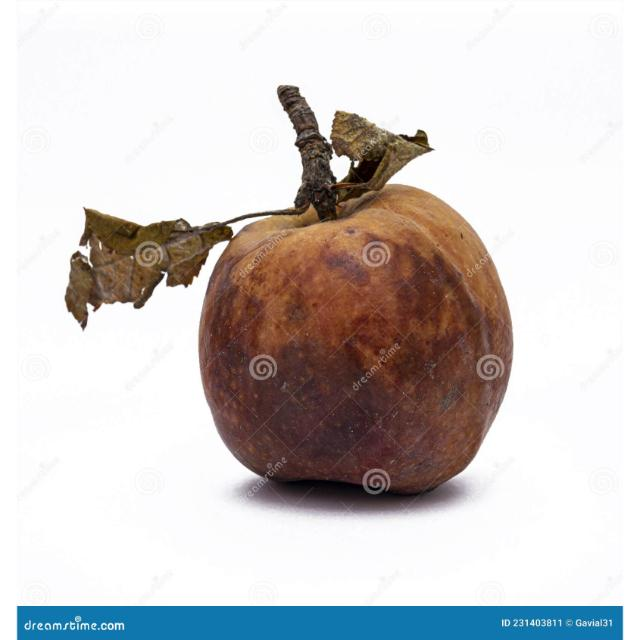organic: (63, 53, 541, 502)
